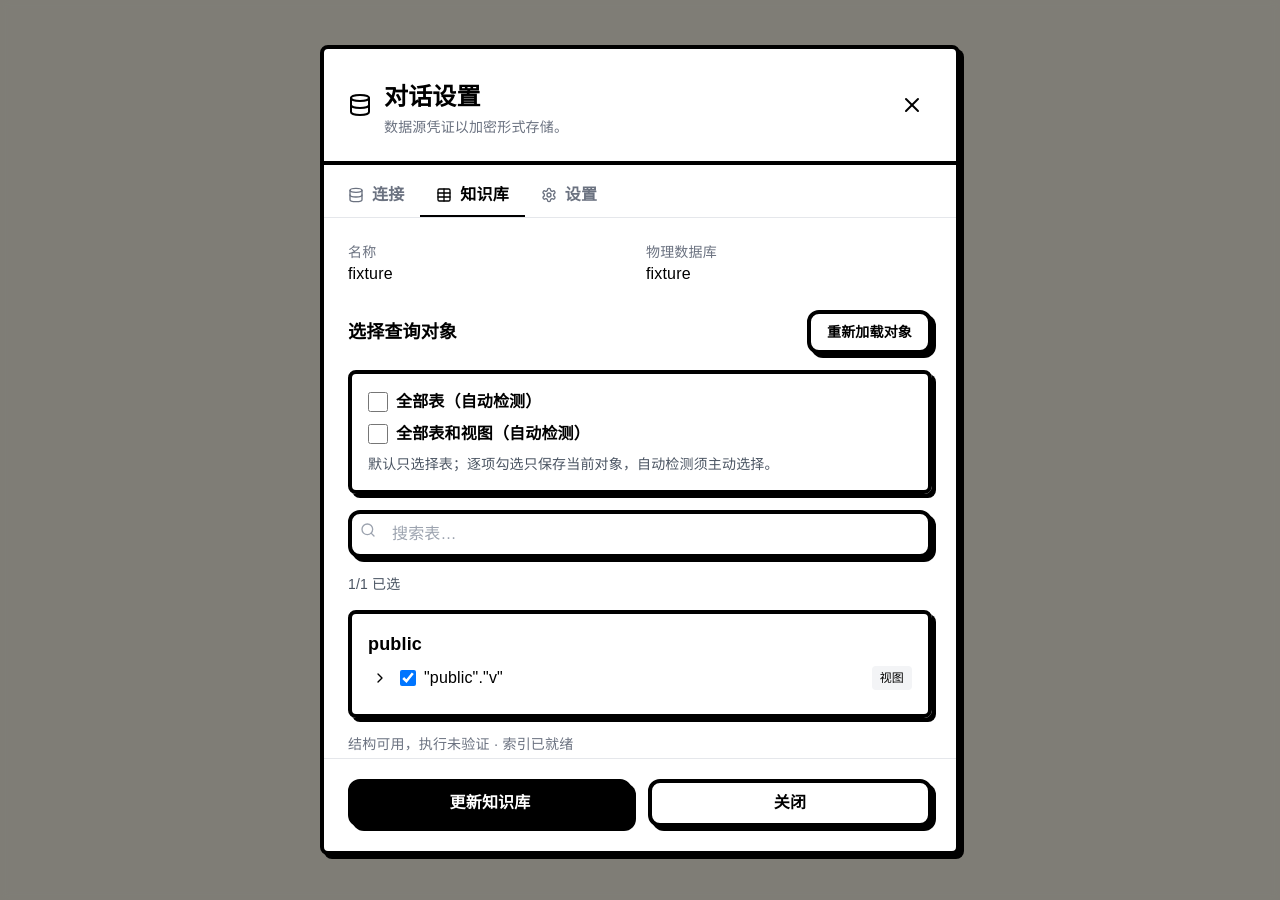
A3 a catalog observation invalidating ready is reflected without a selection revision change
This screenshot has width=1280, height=900.
Expected: the checkbox labelled "\"public\".\"v\"" is shown, [400,670,416,686]
Expected: the message shows "索引已就绪", [502,736,573,752]
What coordinates should you click on to do the following:
click the button "重新加载对象"
I would click on:
 (870, 332)
Its box is [807,310,932,354].
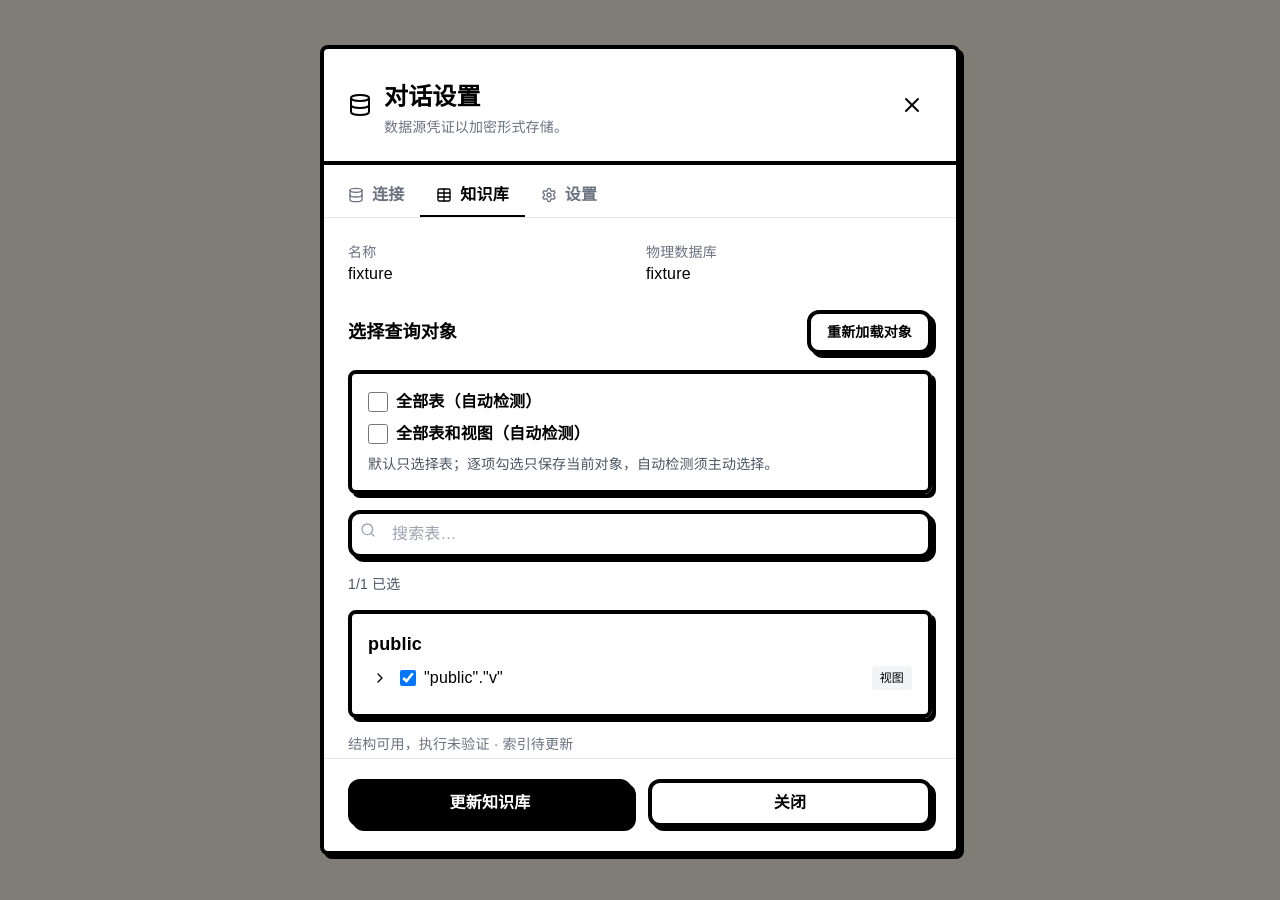
Expected: the checkbox labelled "\"public\".\"v\"" is shown, [400,670,416,686]
Expected: the message shows "索引待更新", [502,736,573,752]
What coordinates should you click on to do the following:
click the button named "展开 \"public\".\"v\""
I would click on:
 (380, 678)
Its box is [368,666,392,690].
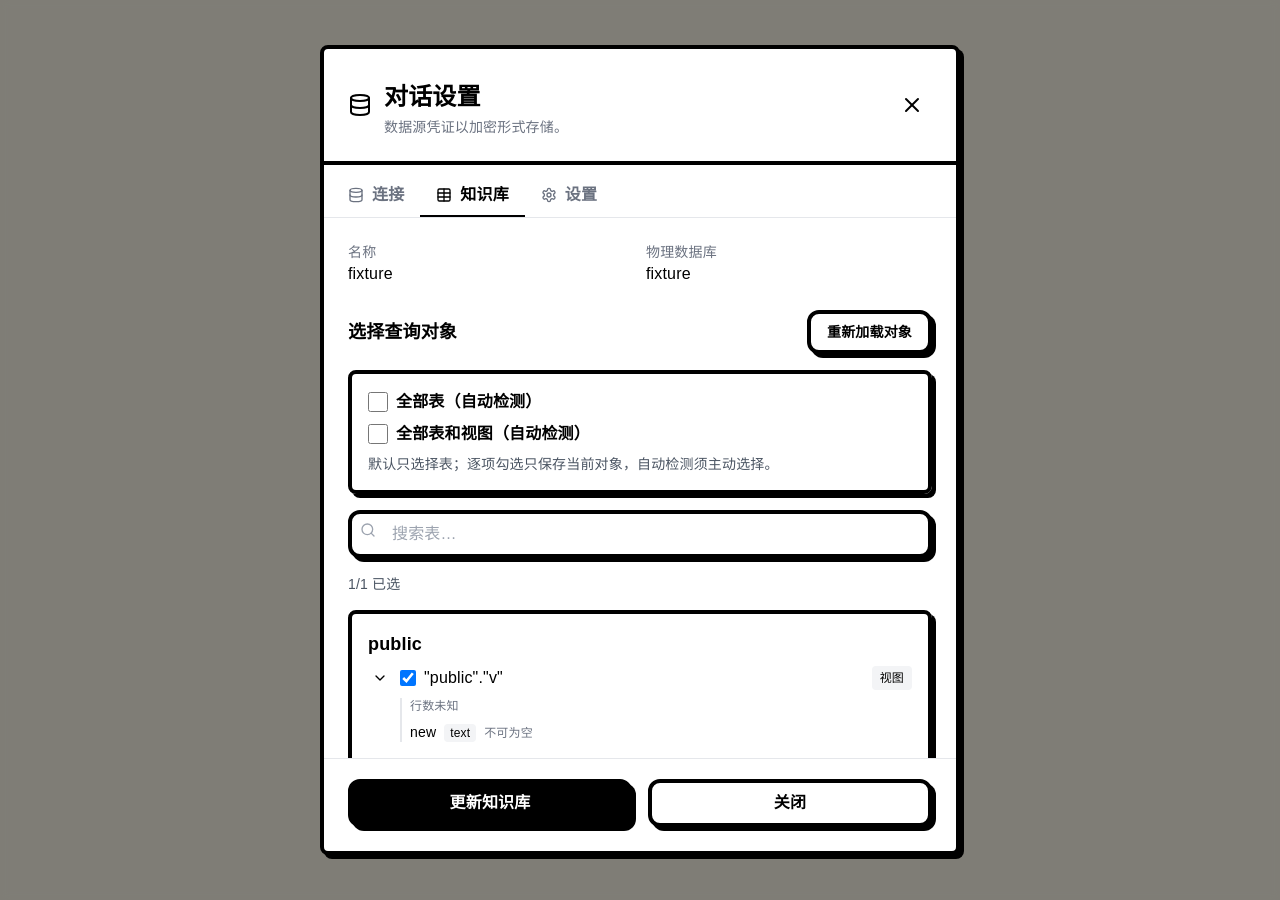
Expected: the text "new" is shown, [410,724,436,740]
